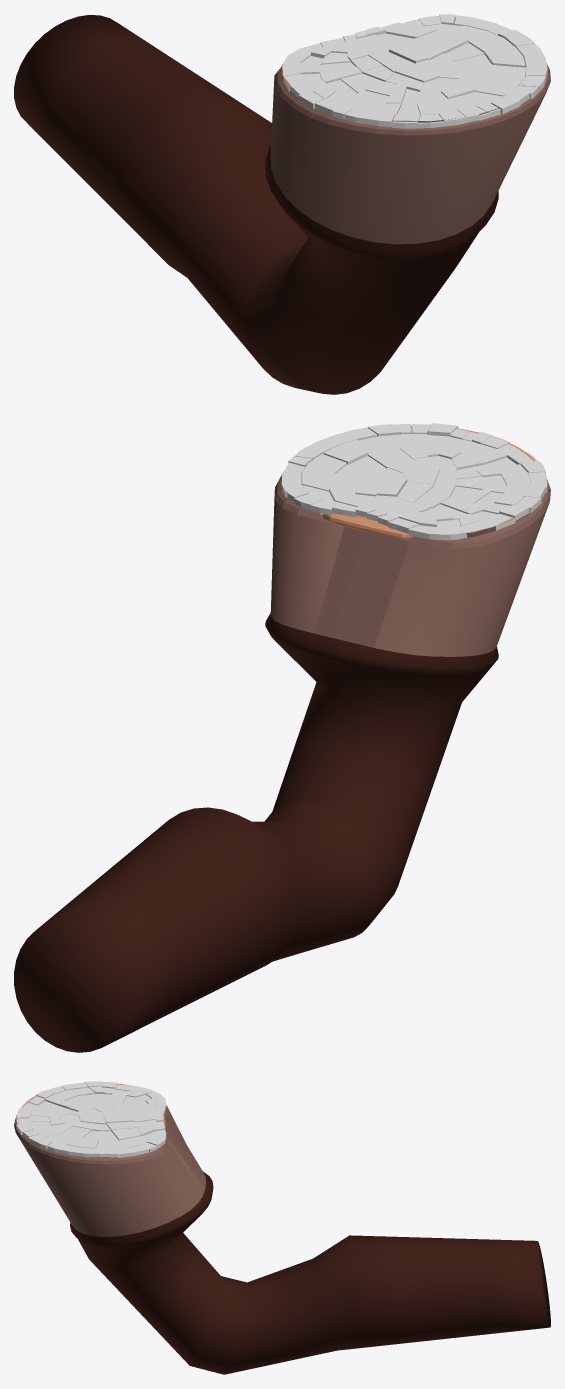
File: at.foot.fbx
3 views of the same model, one above another, from view 1: azimuth 30°, elevation 25°; view 2: azimuth 150°, elevation 25°; view 3: azimuth 270°, elevation 25° (orthographic). The views are drawn at different scales.
Parts seen in each view (by area): view 1: horse.foot.2, Dust.036, Dust.056, Dust.037, Dust.035, Dust.059, Dust.082, Dust.077, Dust.041; view 2: horse.foot.2, horse nail; view 3: horse.foot.2.
Part boxes in pixels (<box>): horse.foot.2: <box>14,15,550,394</box>; Dust.036: <box>484,46,525,67</box>; Dust.056: <box>418,30,468,53</box>; Dust.037: <box>490,65,526,86</box>; Dust.035: <box>468,31,514,52</box>; Dust.059: <box>455,64,493,78</box>; Dust.082: <box>368,51,414,72</box>; Dust.077: <box>340,73,384,92</box>; Dust.041: <box>417,99,455,114</box>; horse.foot.2: <box>14,425,550,1052</box>; horse nail: <box>322,513,413,538</box>; horse.foot.2: <box>14,1083,550,1374</box>.
Size of the model in its own units: 0.1644 by 0.2564 by 0.4916.
